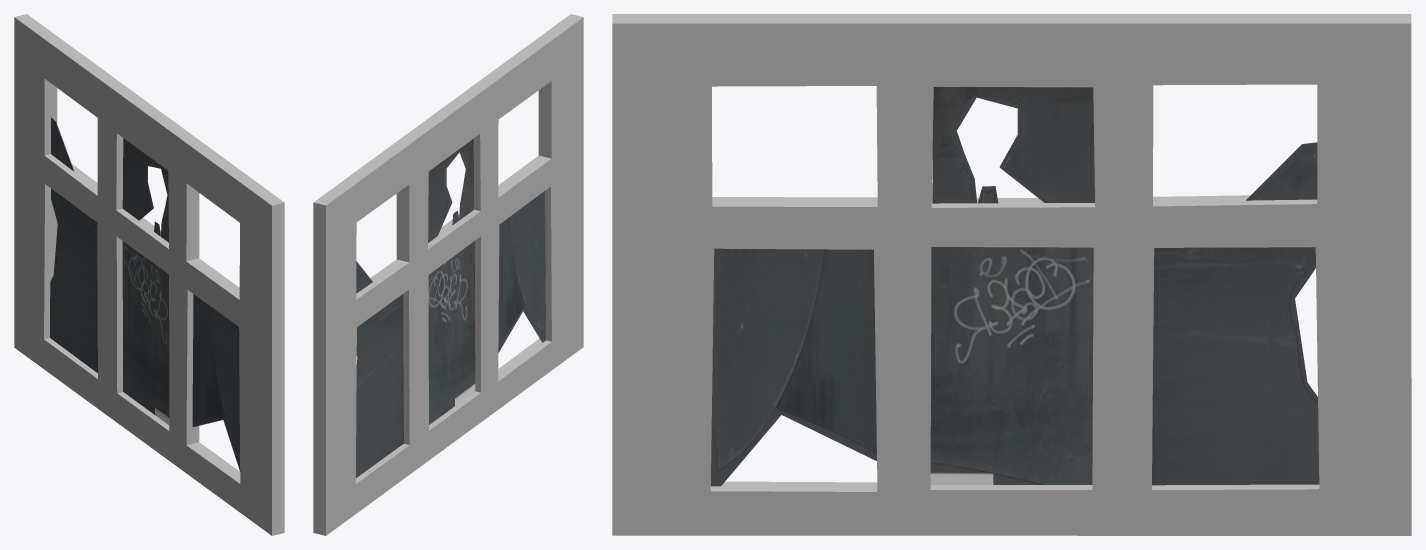
File: Windows_Big_01_2.FBX
The picture shows the model from 3 angles, left to right: view 1: azimuth 30°, elevation 25°; view 2: azimuth 150°, elevation 25°; view 3: azimuth 270°, elevation 25°; orthographic projection. The views are drawn at different scales.
Parts seen in each view (by area): view 1: Windows_Big_01_2, Windows_Big_01_2glass (×5); view 2: Windows_Big_01_2, Windows_Big_01_2glass (×4); view 3: Windows_Big_01_2, Windows_Big_01_2glass (×5).
Part boxes in pixels (bbox=[...]): Windows_Big_01_2: bbox=[14, 14, 284, 535]; Windows_Big_01_2glass (×5): bbox=[50, 117, 240, 471]; Windows_Big_01_2: bbox=[313, 14, 583, 535]; Windows_Big_01_2glass (×4): bbox=[356, 139, 545, 477]; Windows_Big_01_2: bbox=[612, 14, 1411, 535]; Windows_Big_01_2glass (×5): bbox=[711, 87, 1319, 486].
Bounding box in the file's own units: 6.18 × 216 × 153.
